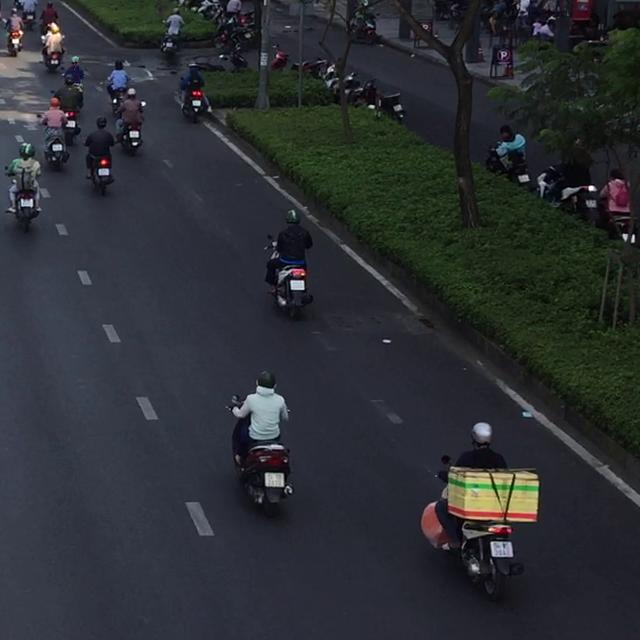Motorcycle: (420, 454, 540, 601), (225, 394, 294, 516), (262, 234, 313, 319), (536, 163, 596, 218), (4, 165, 41, 232), (358, 78, 406, 123), (37, 111, 70, 171), (114, 100, 146, 155), (84, 141, 114, 196), (176, 75, 207, 123)
